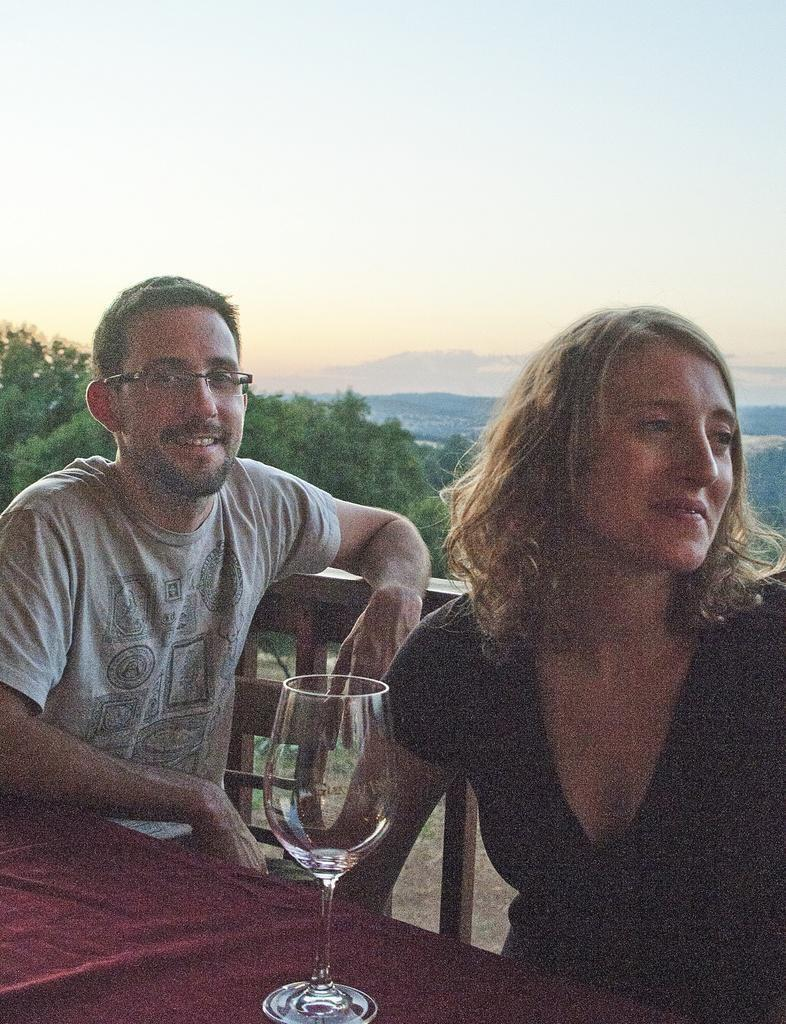glass-wine: (259, 669, 396, 1023)
